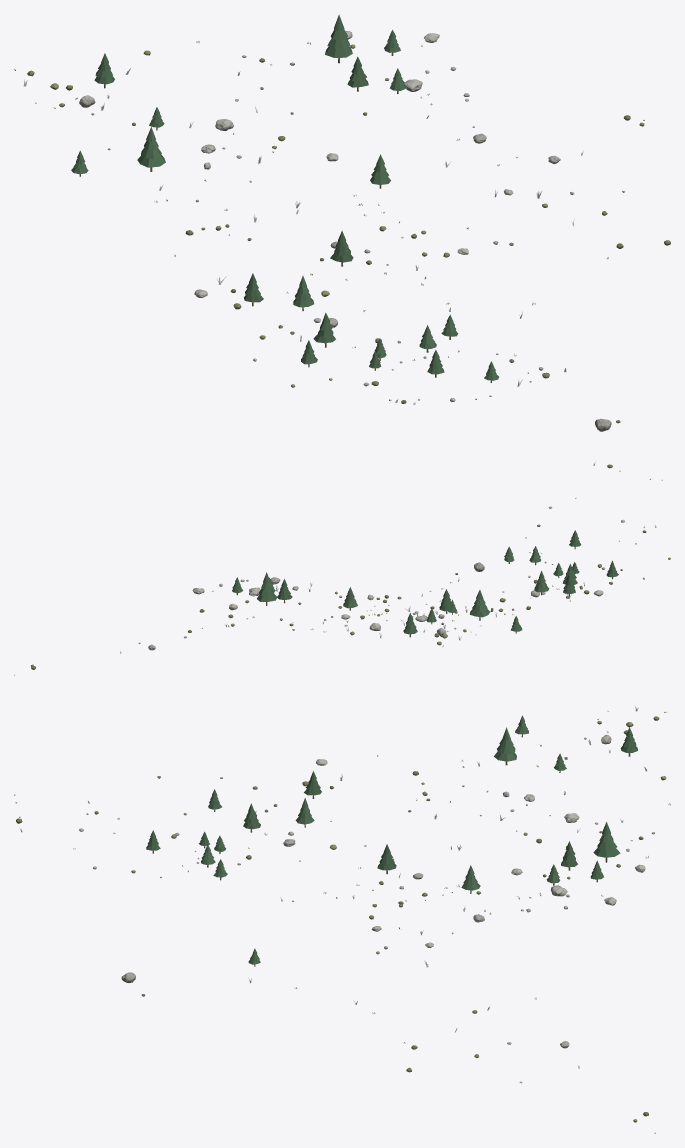
Rendered from coast_land_scatter_c11_16.glb.
3 views of the same model, one above another, from view 1: azimuth 30°, elevation 25°; view 2: azimuth 150°, elevation 25°; view 3: azimuth 270°, elevation 25° (orthographic). The views are drawn at different scales.
Visible parts, largest first — view 1: coast_land_scatter_c11_16; view 2: coast_land_scatter_c11_16; view 3: coast_land_scatter_c11_16.
Boxes of the visible parts, bbox=[...] form: coast_land_scatter_c11_16: bbox=[14, 14, 670, 431]; coast_land_scatter_c11_16: bbox=[14, 462, 670, 675]; coast_land_scatter_c11_16: bbox=[14, 706, 670, 1133].
Bounding box in the file's own units: 236 × 74.46 × 246.
